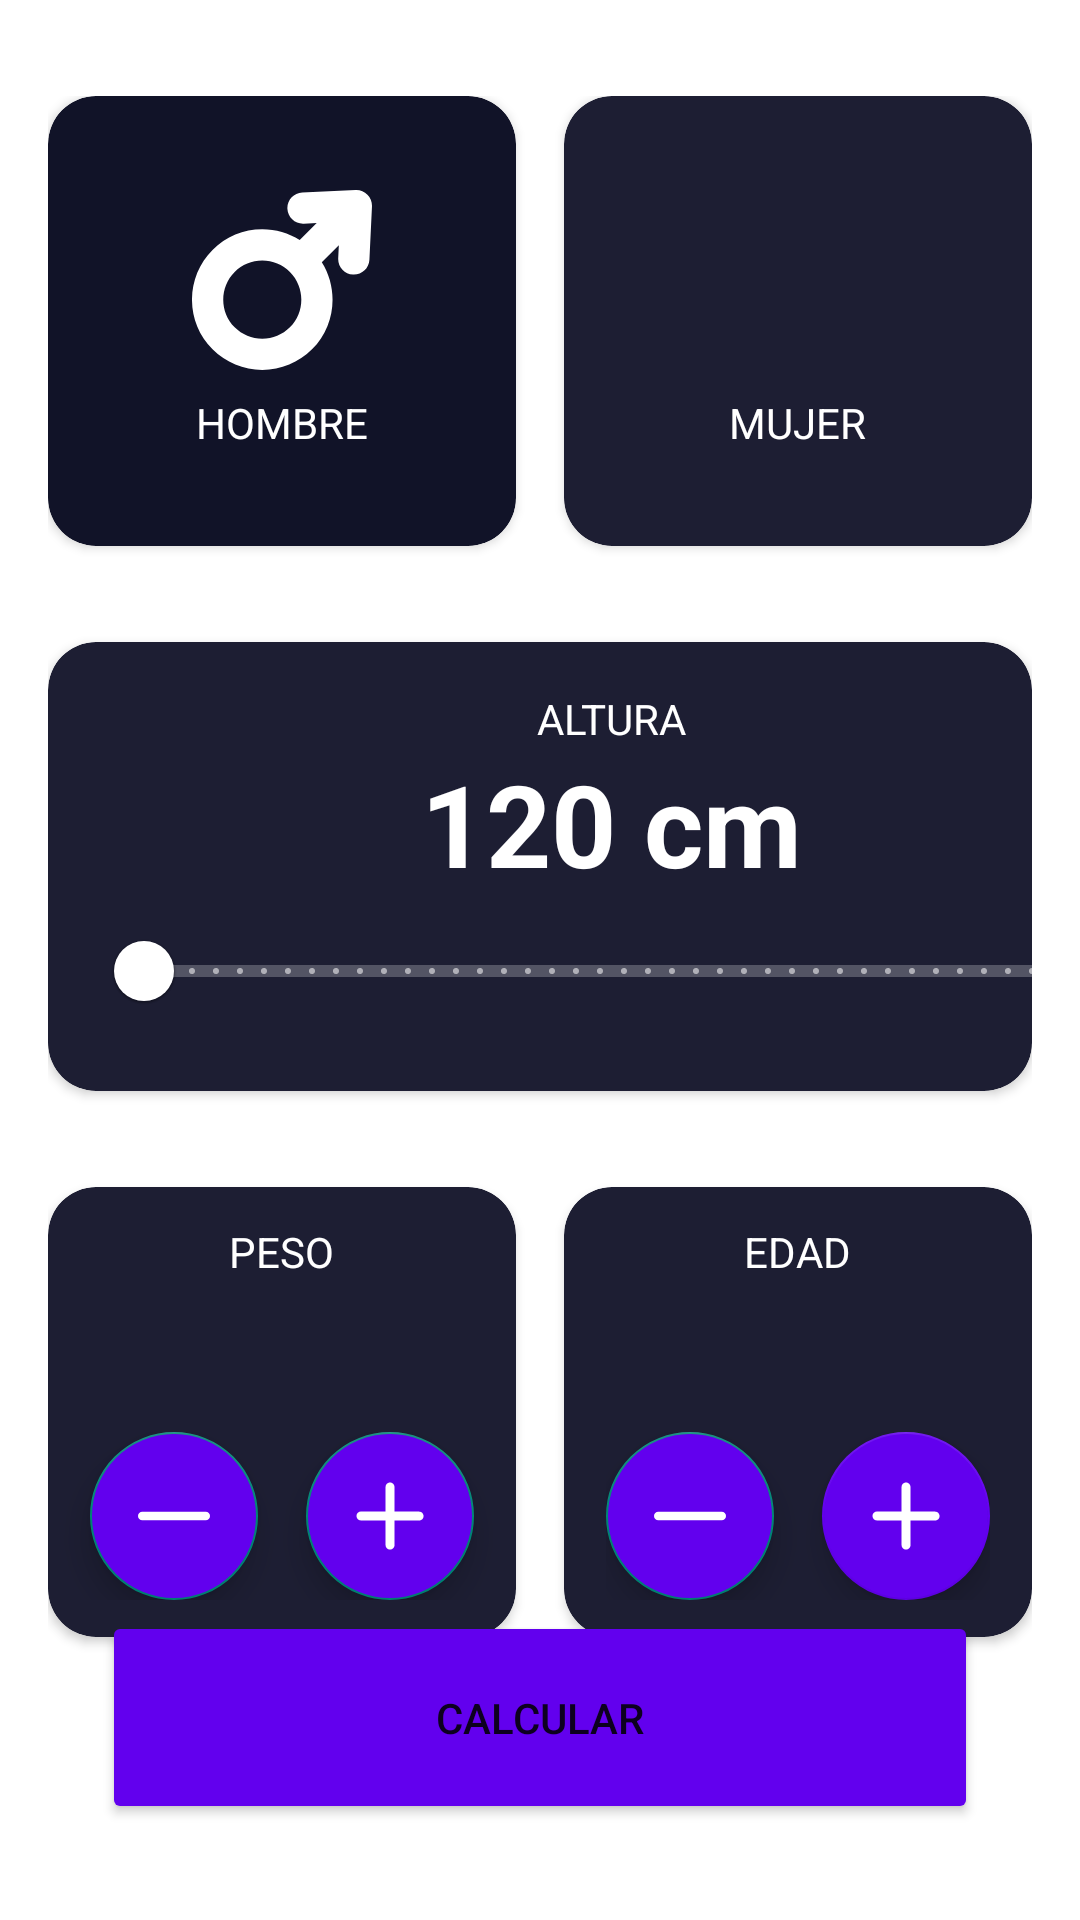

Icons on this 1080w x 1920h Android screen, each with its box as (x1=x1, y1=y1, x2=x2, y2=y2):
plus: (x1=306, y1=1432, x2=474, y2=1600), (x1=822, y1=1432, x2=990, y2=1600)
subtract: (x1=90, y1=1432, x2=258, y2=1600), (x1=606, y1=1432, x2=774, y2=1600)
